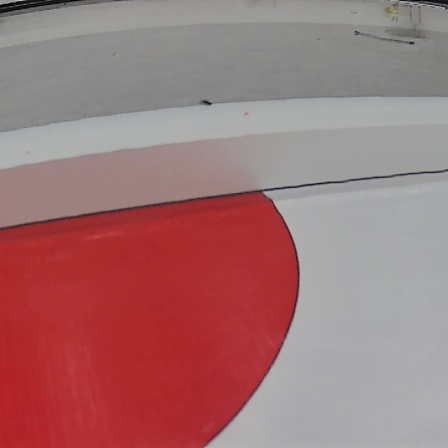red_base: (3, 186, 304, 448)
